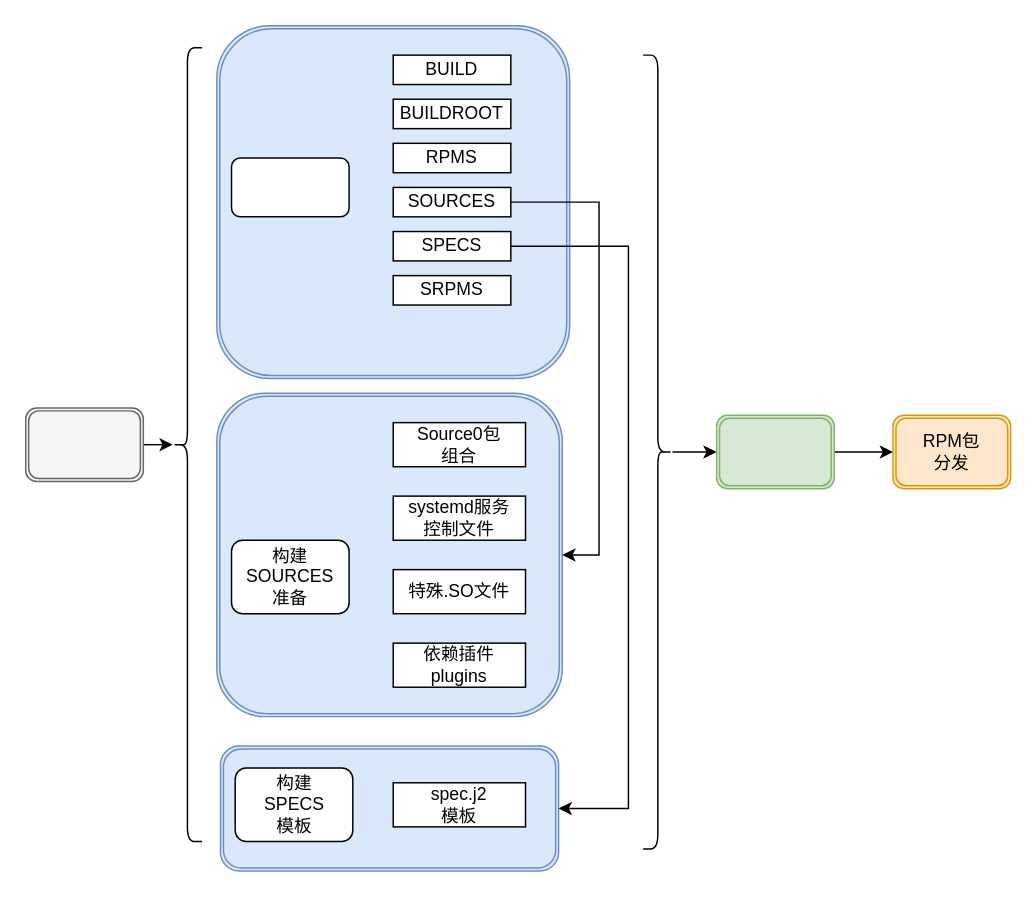
Some shapes in this 1036 by 897 pixel diagram are drawn without their labels. The centre of each missing label's shape, as x and y in pixels:
rpmbuild 构建准备: (x=83, y=443)
rpmbuild构建: (x=774, y=451)
构建目录 创建: (x=289, y=187)
